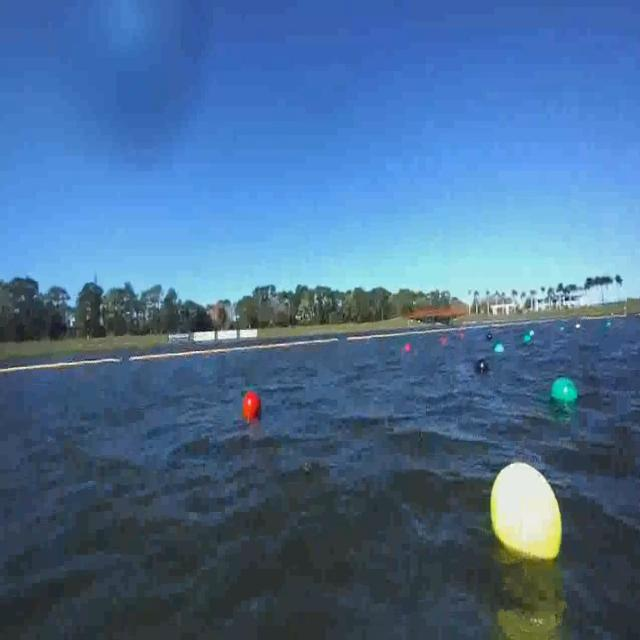green-buoy: (550, 376, 578, 404)
red-buoy: (242, 394, 261, 424)
yellow-buoy: (489, 462, 563, 570)
